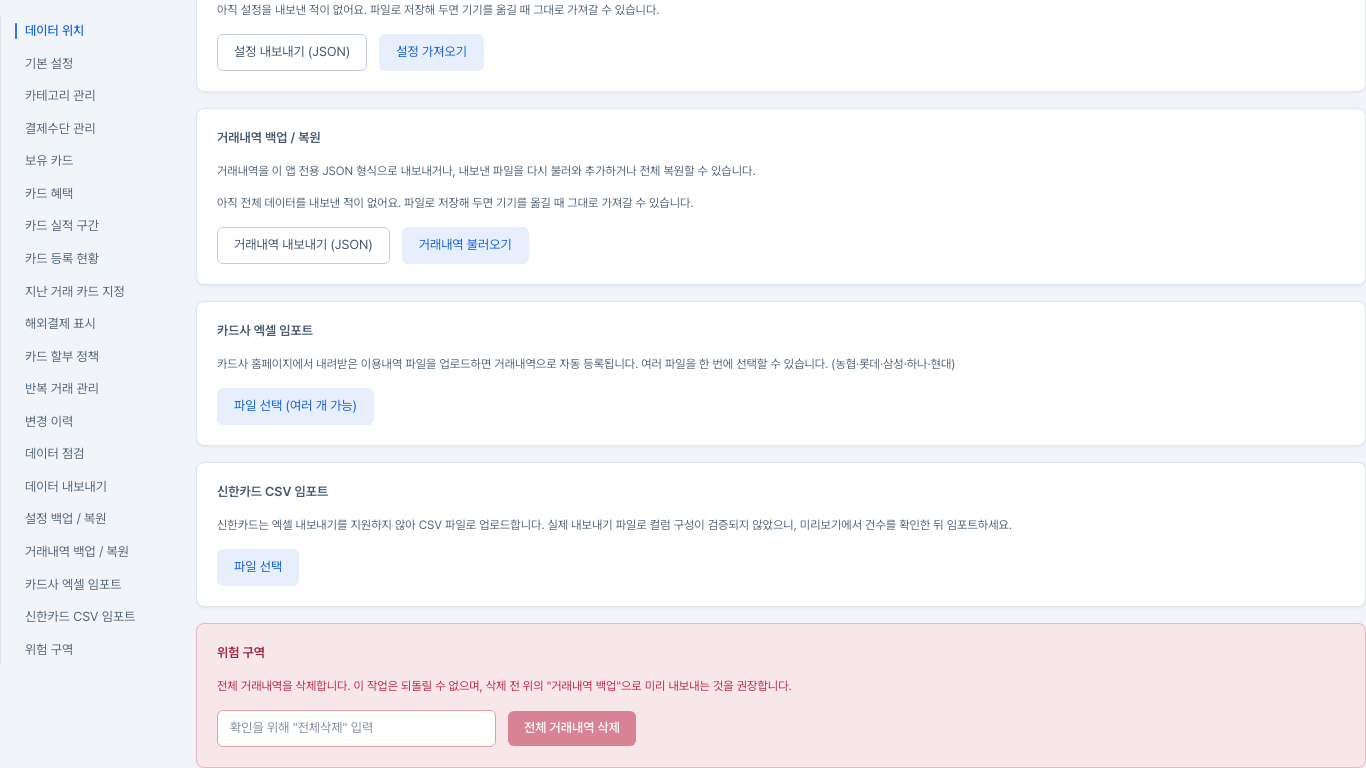
Test case: 삭제 실행 › 성공하면 입력 문구를 비워 다시 잠근다
(page scrolled)
Type "전체삭제" into the field at [356, 729], box [217,710,496,747]
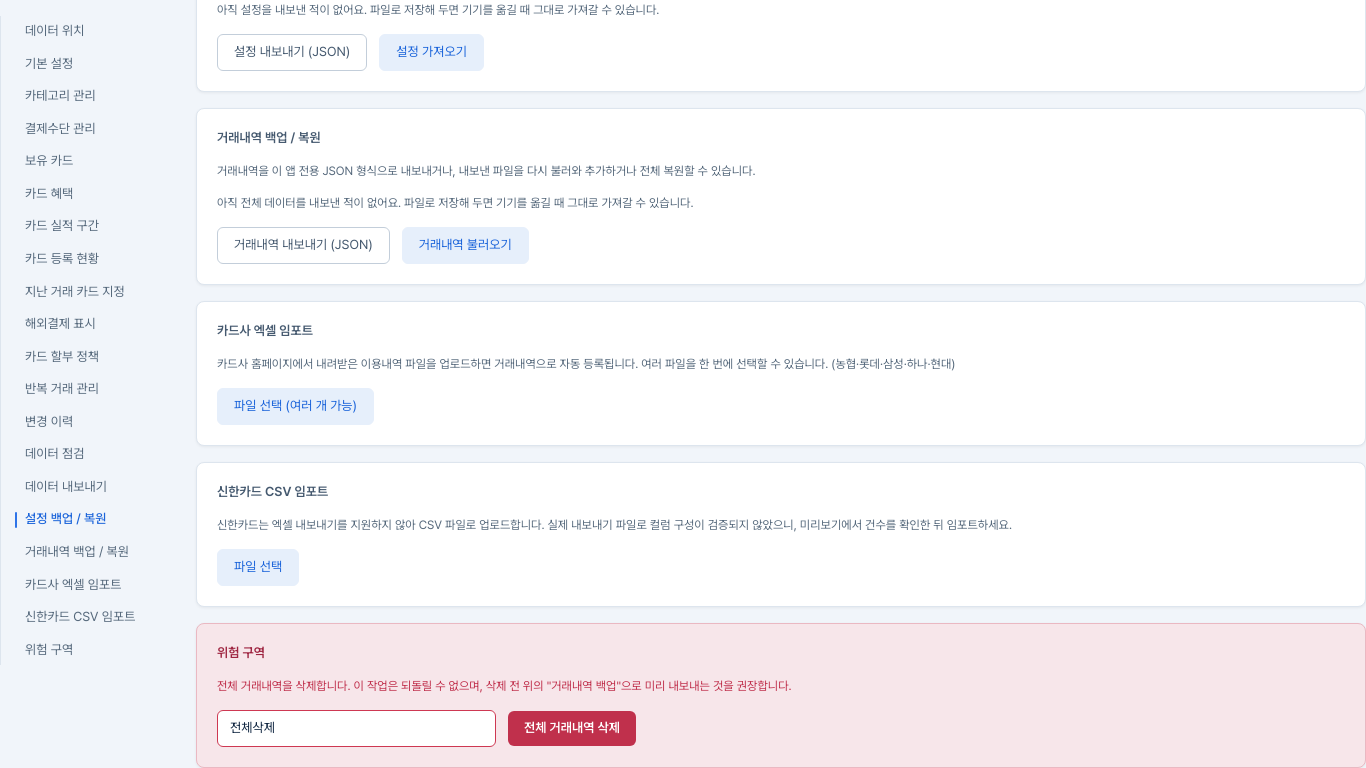
Click the button "전체 거래내역 삭제" at [572, 729], box [508,711,636,746]
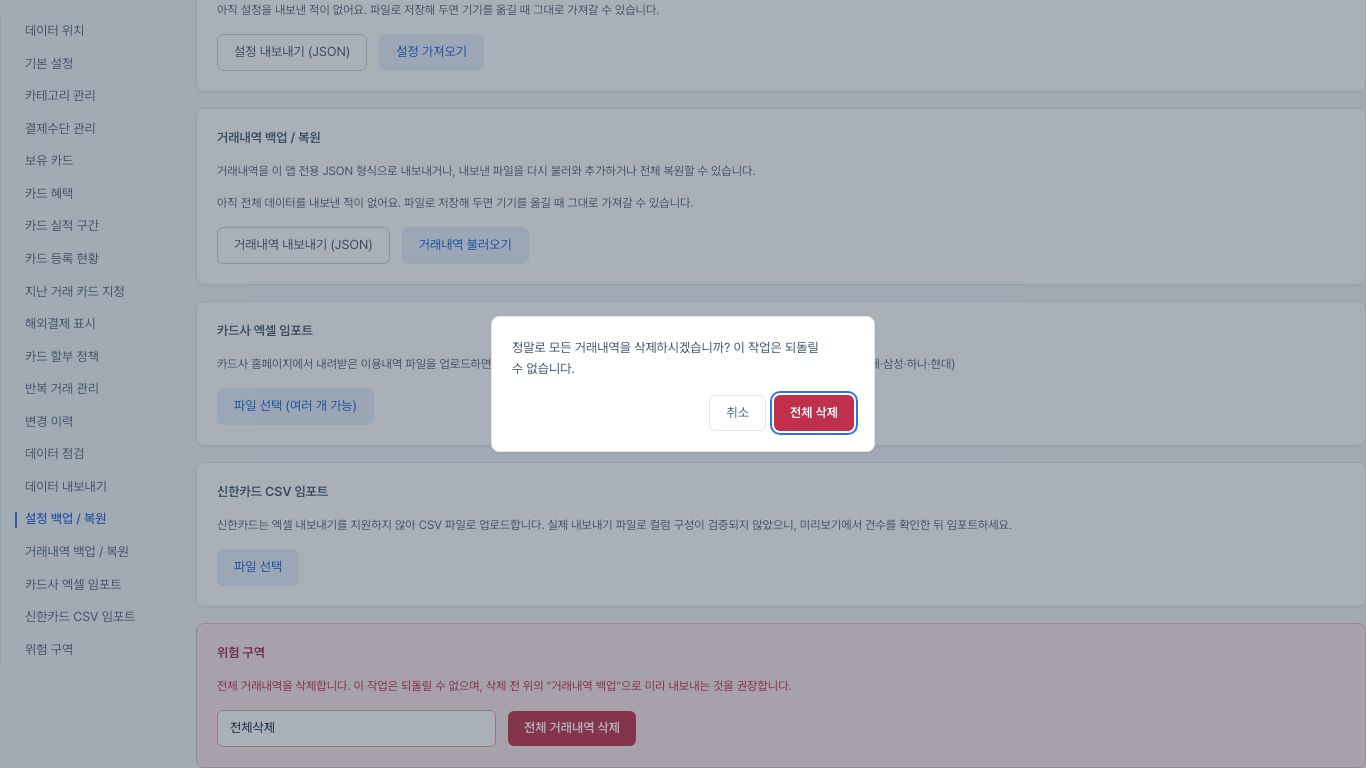
Click the button "전체 삭제" at [814, 413], box [774,395,854,431]
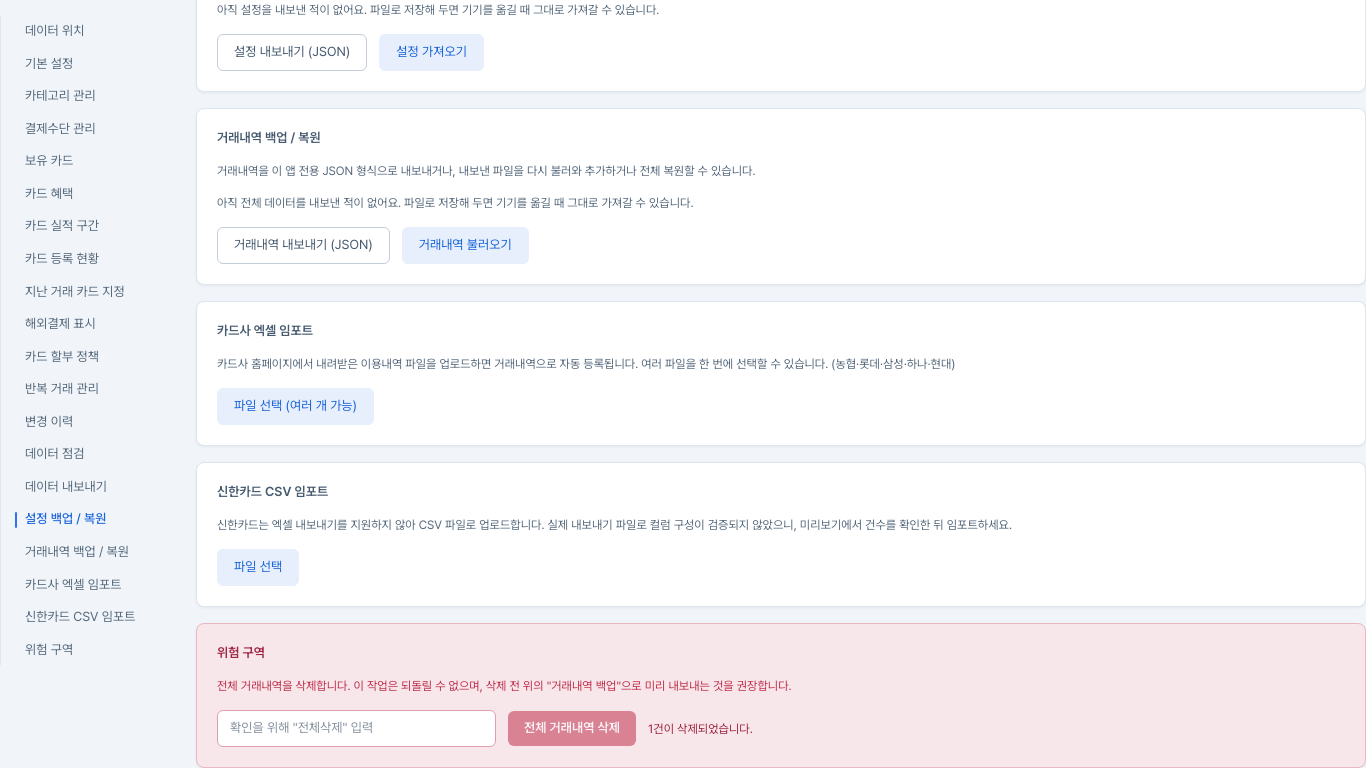
Expected: the field is empty, [217,710,496,747]
Expected: the button "전체 거래내역 삭제" is disabled, [508,711,636,746]
